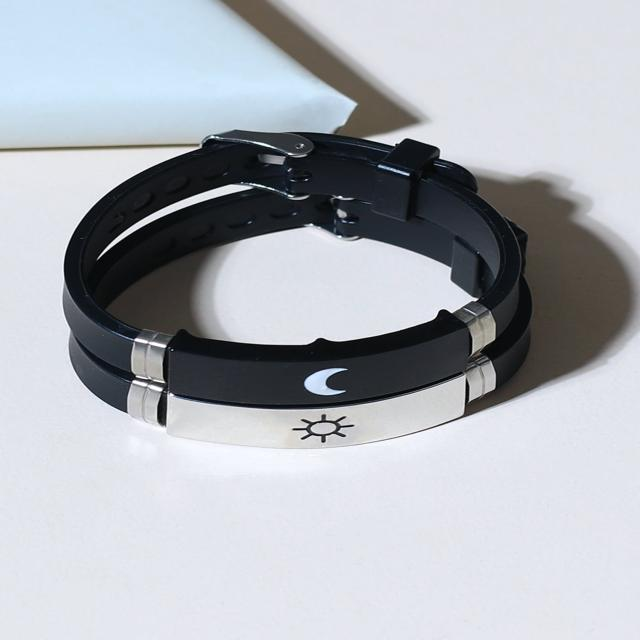bracelet: (28, 76, 602, 462)
